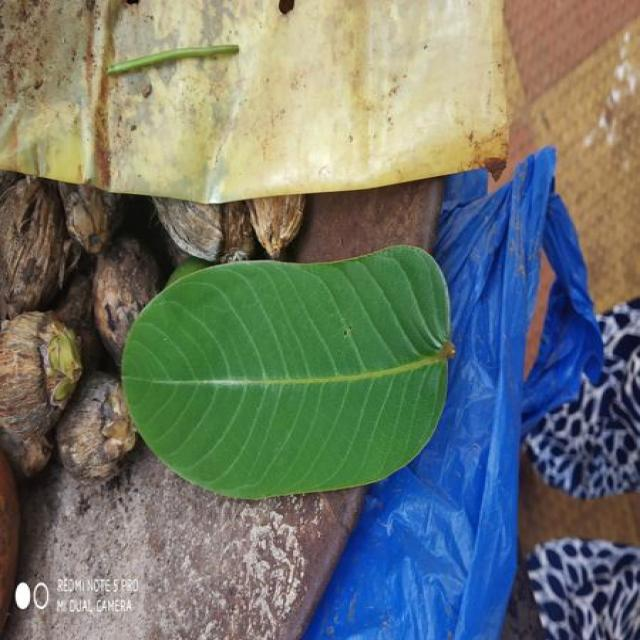chakte: (115, 246, 448, 497)
